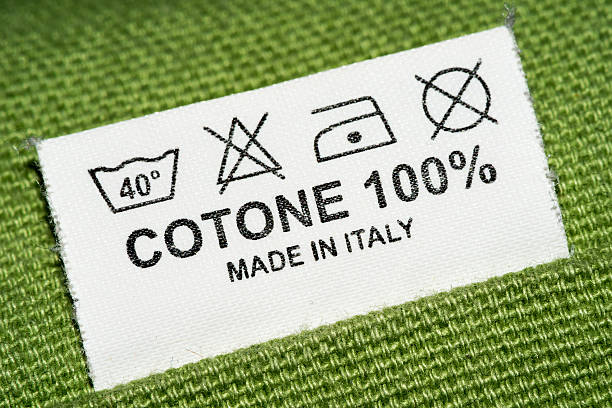ER_iron_low_temp: (307, 91, 403, 166)
ER_no_bleach: (197, 107, 295, 197)
ER_no_dry_clean: (410, 52, 503, 145)
ER_wash_40: (85, 141, 185, 217)
